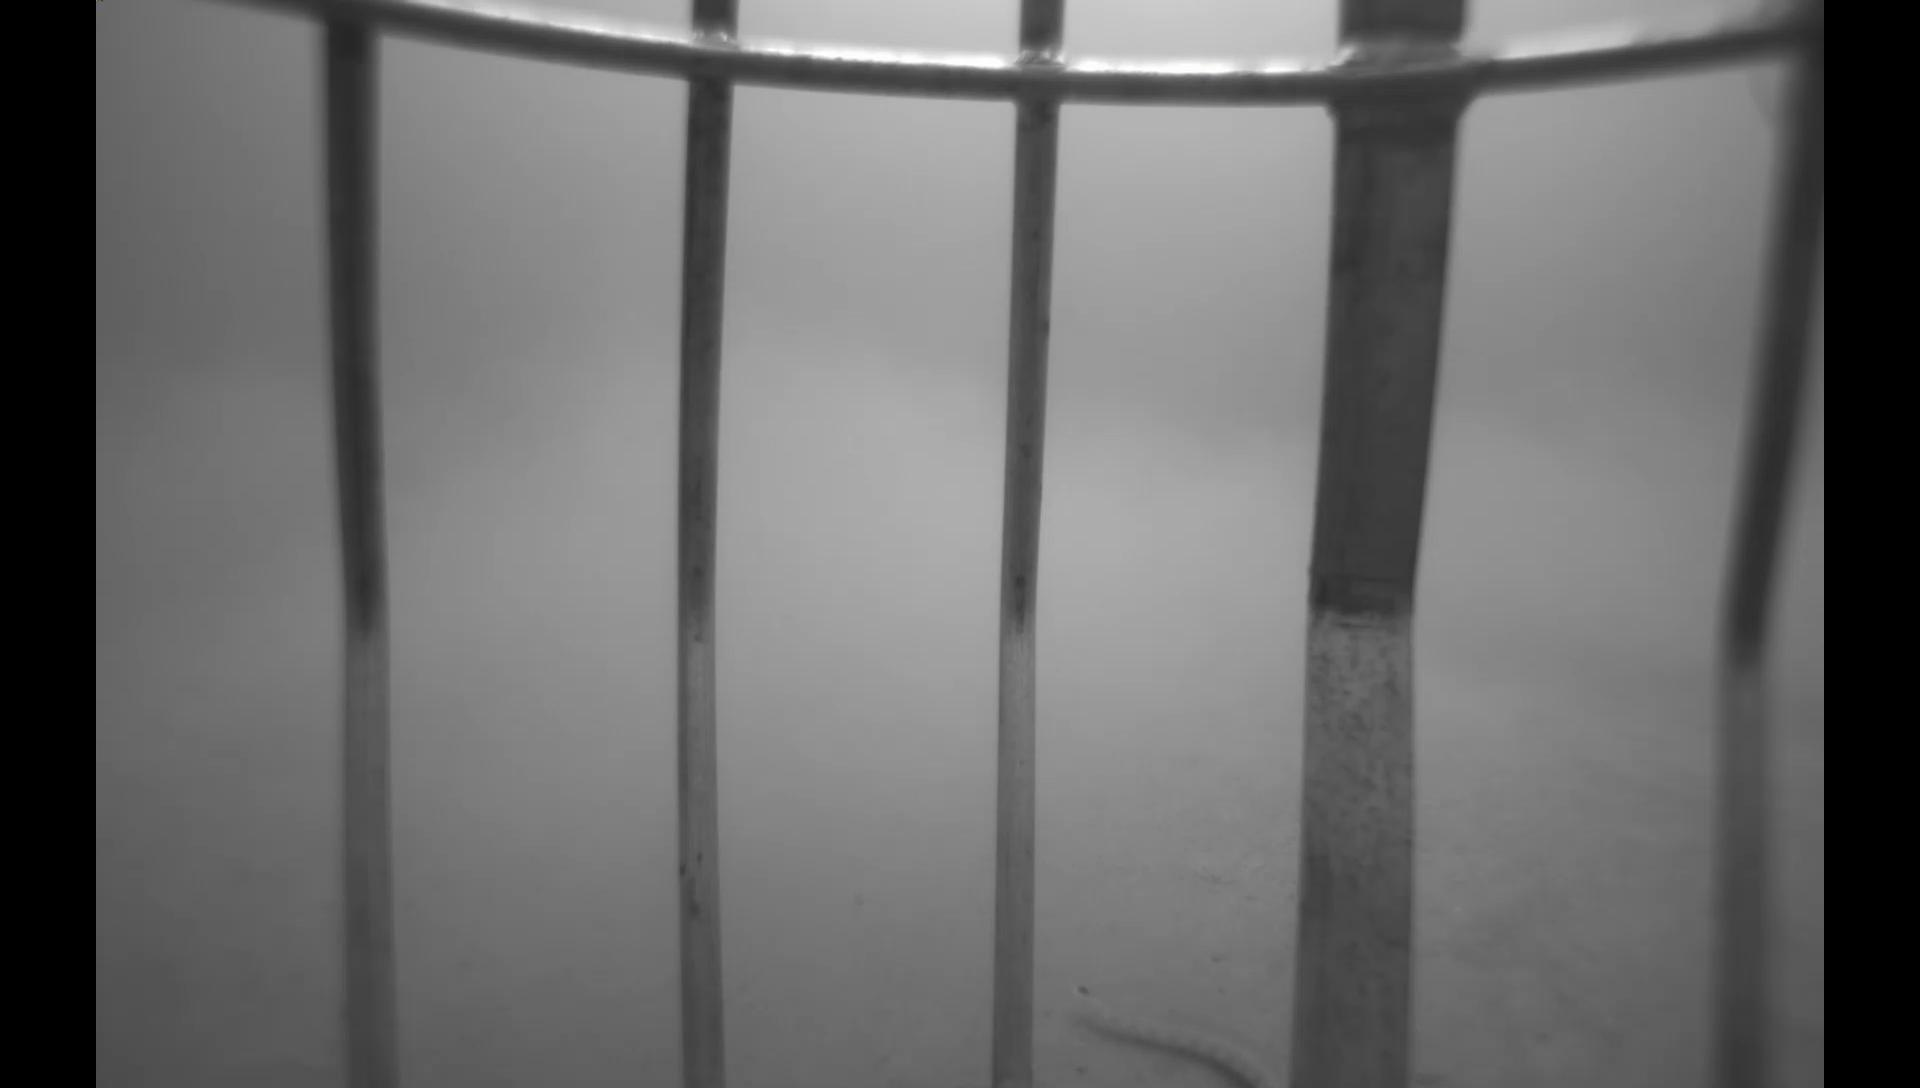OPHICHTHUSPUNCTICEPS-143150402: (1065, 971, 1291, 1087)
